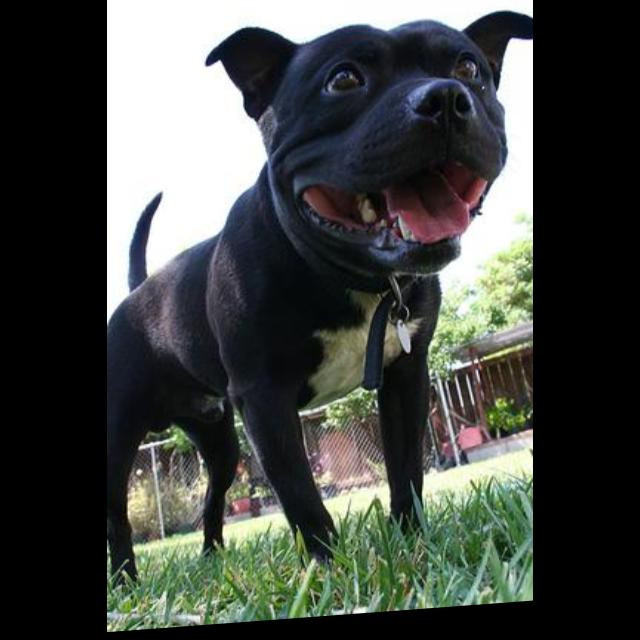amstaff: (108, 13, 534, 596)
